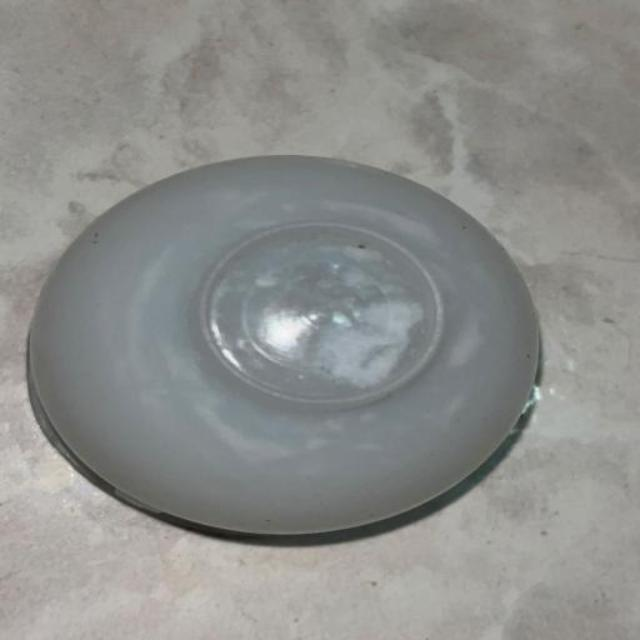PET: (0, 84, 640, 626)
